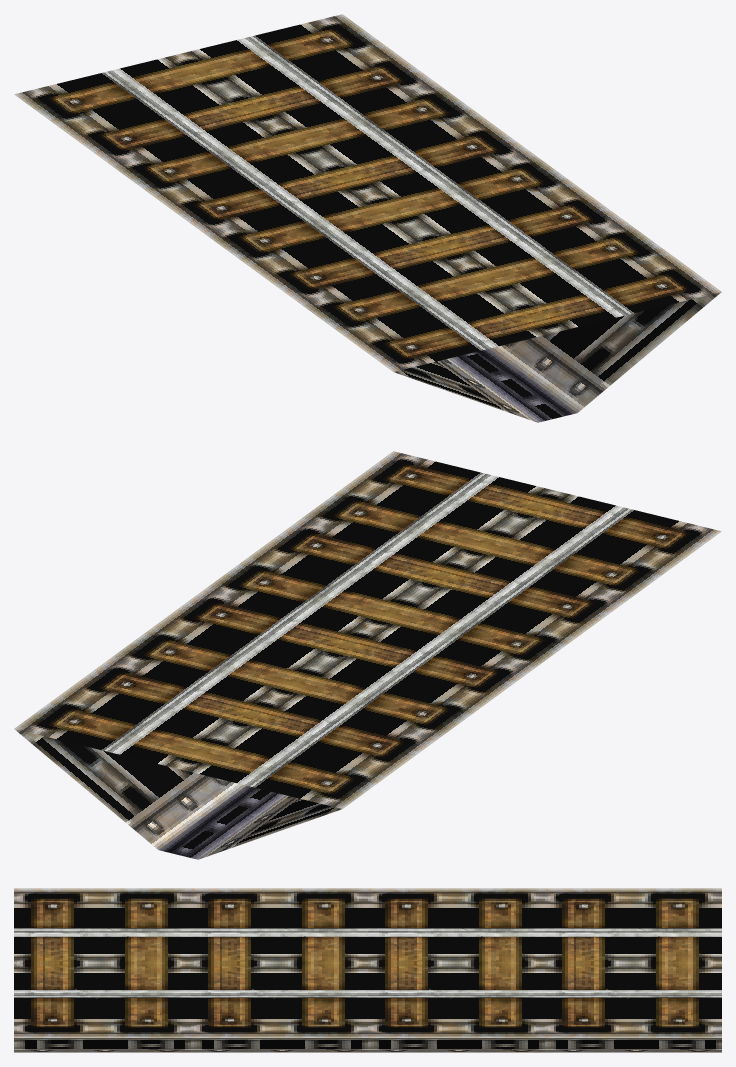
The picture shows the model from 3 angles, top to bottom: view 1: azimuth 30°, elevation 25°; view 2: azimuth 150°, elevation 25°; view 3: azimuth 270°, elevation 25°; orthographic projection. The views are drawn at different scales.
Visible parts, largest first — view 1: prim171-Track-I; view 2: prim171-Track-I; view 3: prim171-Track-I.
Part boxes in pixels (box(x1,y1,x2,y2)): prim171-Track-I: box(14, 14, 721, 422); prim171-Track-I: box(14, 451, 721, 859); prim171-Track-I: box(14, 888, 721, 1052).
Bounding box in the file's own units: 512 × 128 × 1024.
Materials: 3 (3 with a texture image).
